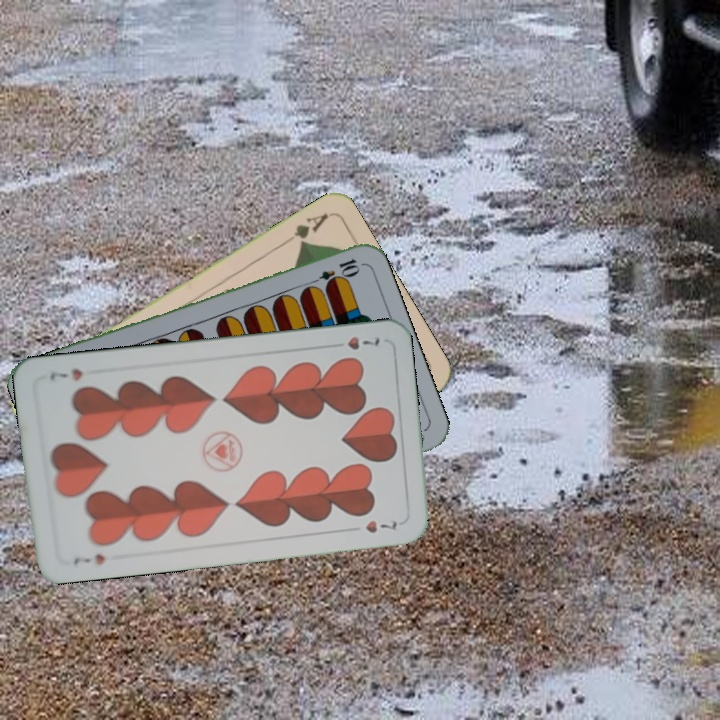E10: (305, 254, 362, 289)
GA: (278, 209, 331, 249)
H7: (326, 332, 382, 353), (69, 550, 108, 568)
